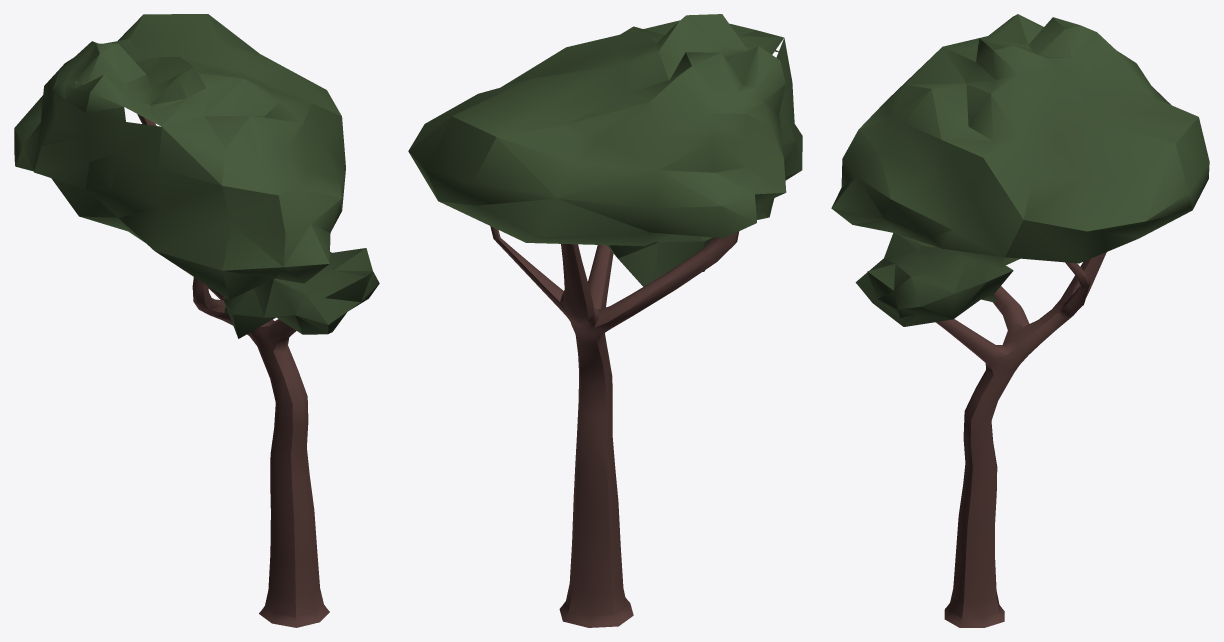
The model's file is tree_broadleaf_4.glb.
The picture shows the model from 3 angles, left to right: view 1: azimuth 30°, elevation 25°; view 2: azimuth 150°, elevation 25°; view 3: azimuth 270°, elevation 25°; orthographic projection. The views are drawn at different scales.
Visible parts, largest first — view 1: tree_broadleaf_4; view 2: tree_broadleaf_4; view 3: tree_broadleaf_4.
Part boxes in pixels (left/top/right/bottom): tree_broadleaf_4: left=14, top=14, right=379, bottom=627; tree_broadleaf_4: left=408, top=14, right=802, bottom=627; tree_broadleaf_4: left=831, top=14, right=1209, bottom=627.
Size of the model in its own units: 4.54 by 8 by 5.17.
